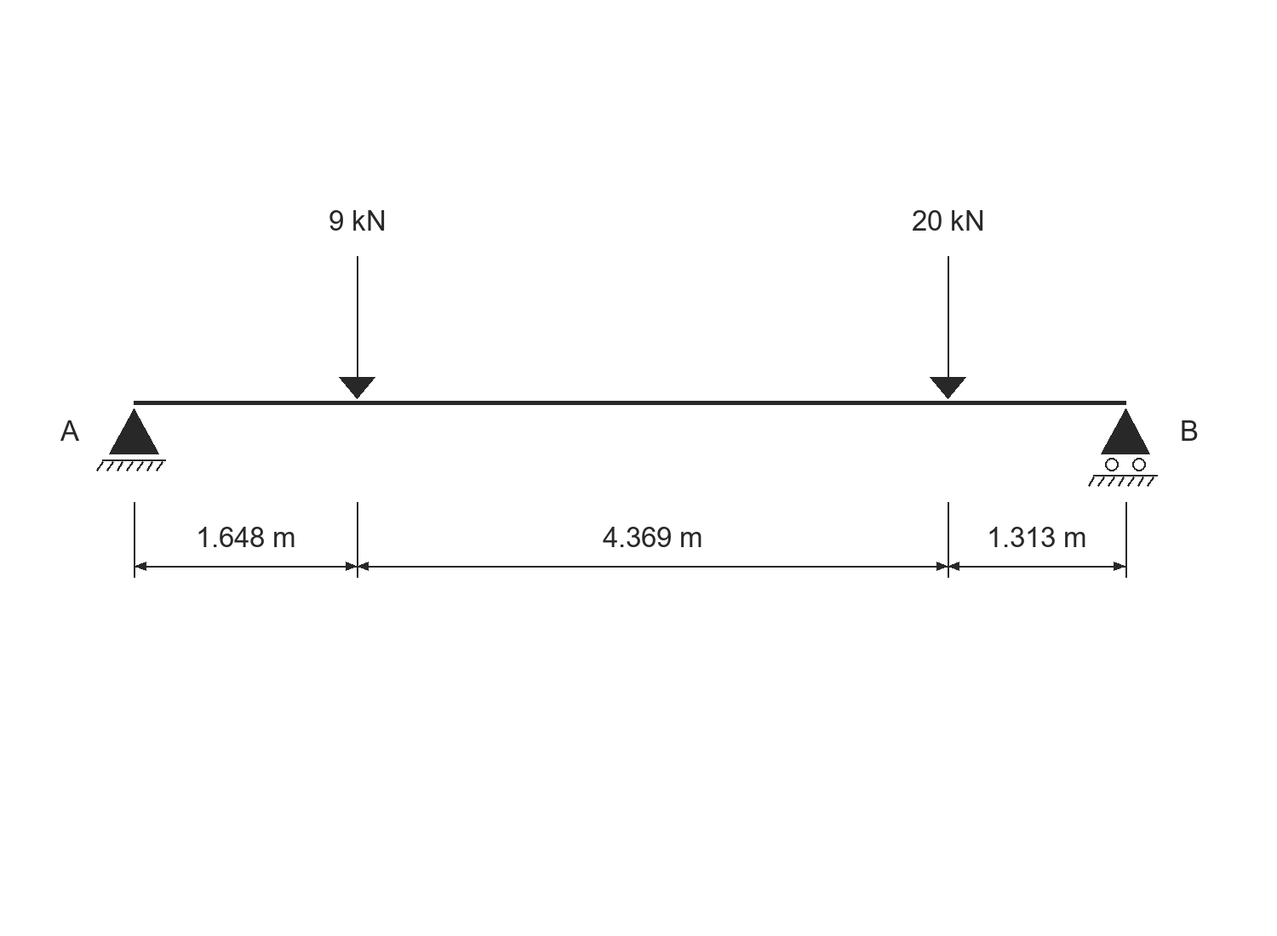pin_support: (96, 408, 166, 471)
point_load: (339, 256, 375, 399), (930, 256, 966, 399)
roller_support: (1088, 408, 1158, 487)
